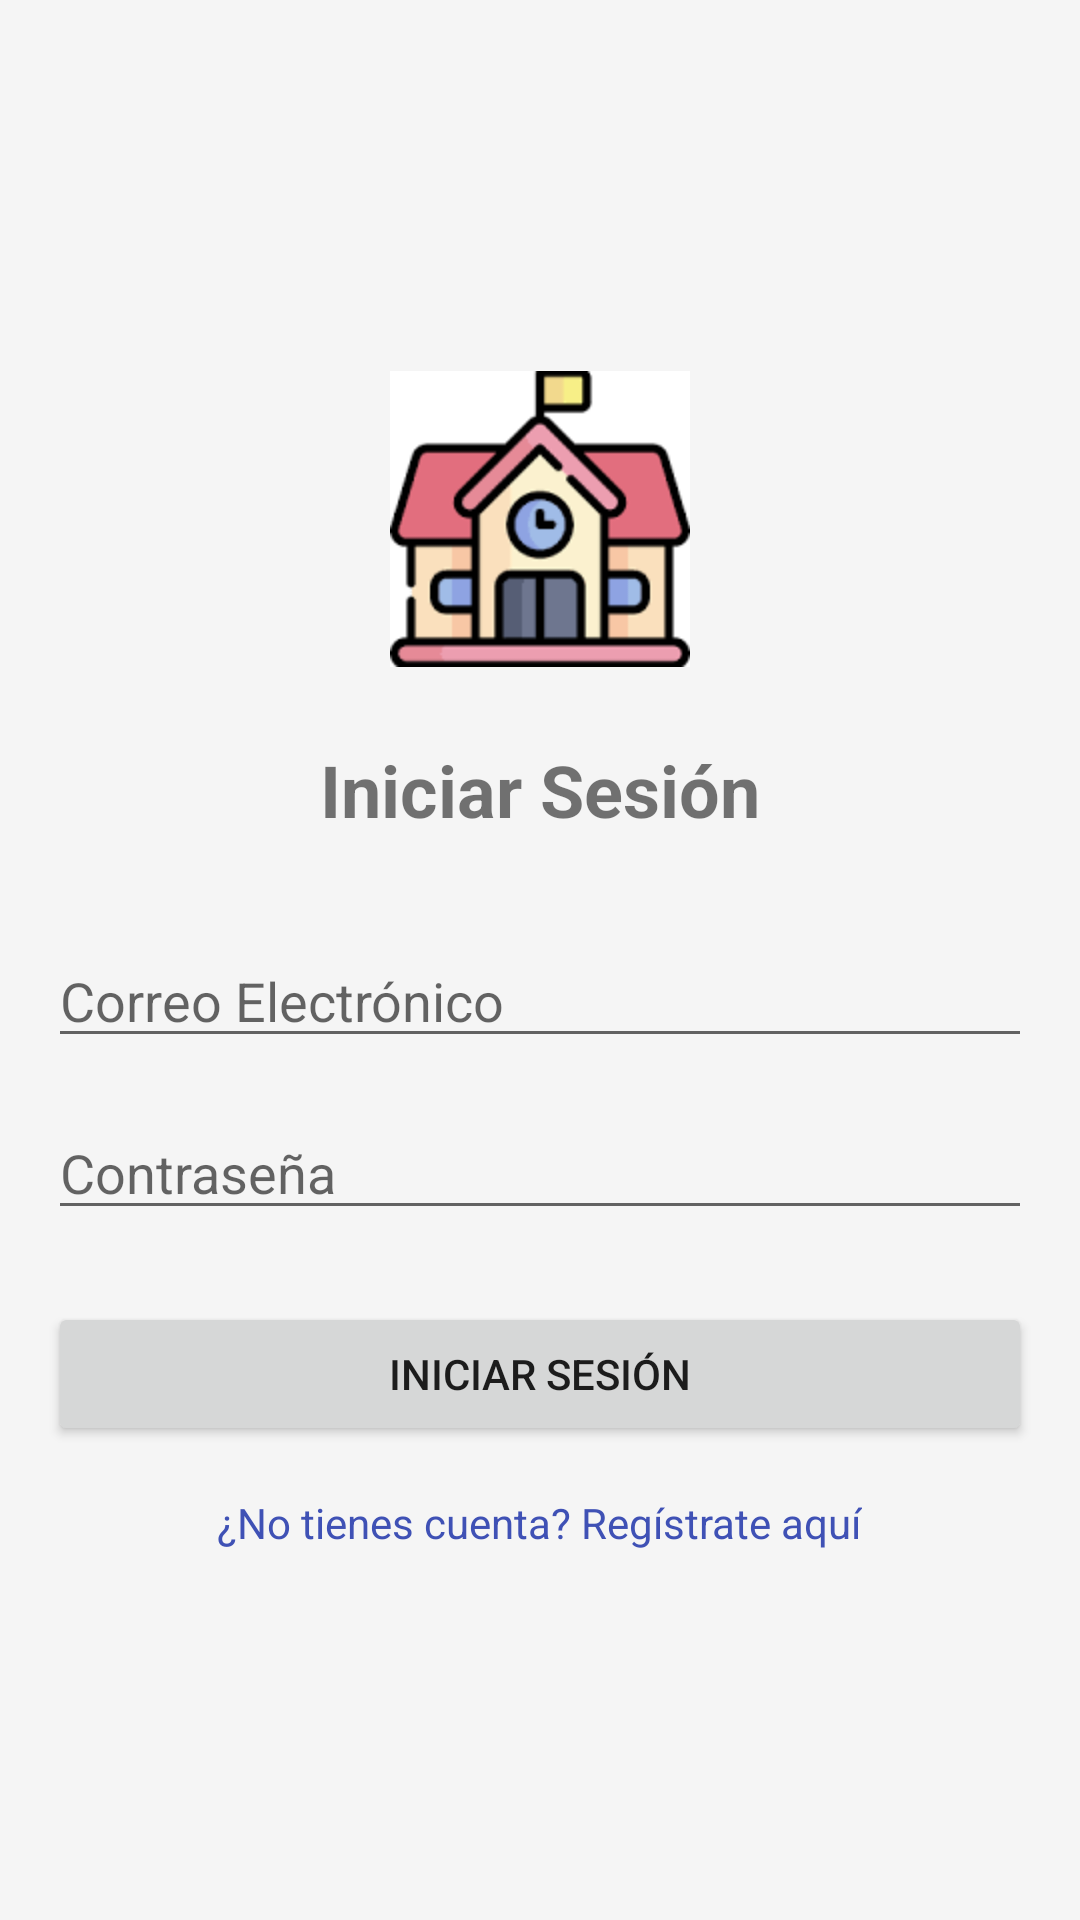

Where to tap for icons on this 1080px x 1920px app screen, as point (x, y):
school: point (540, 519)
